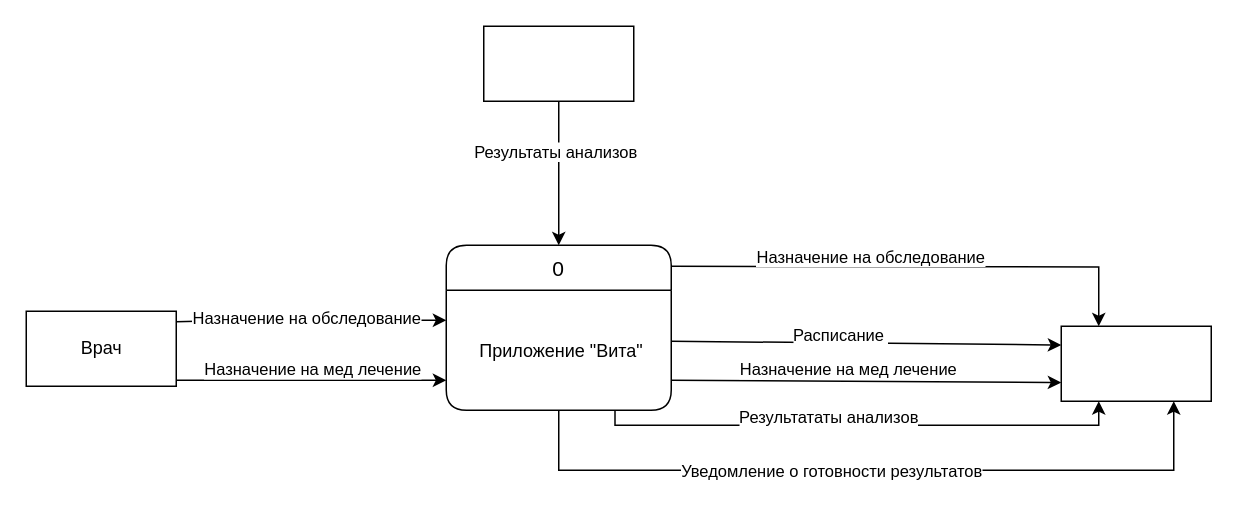
Image size: 1238x509. Some labels were removed from this diagram. The centre of each missing label's shape, as x and y in pixels:
Лаборатория: [558,63]
Пациент: [1135,363]
